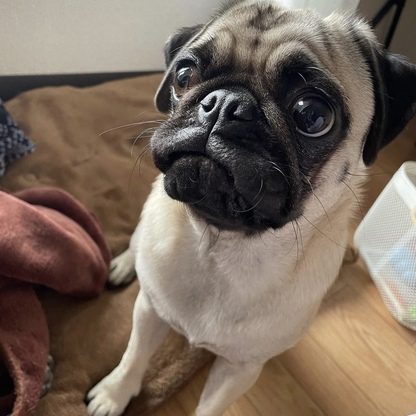Pug: (73, 1, 416, 416)
